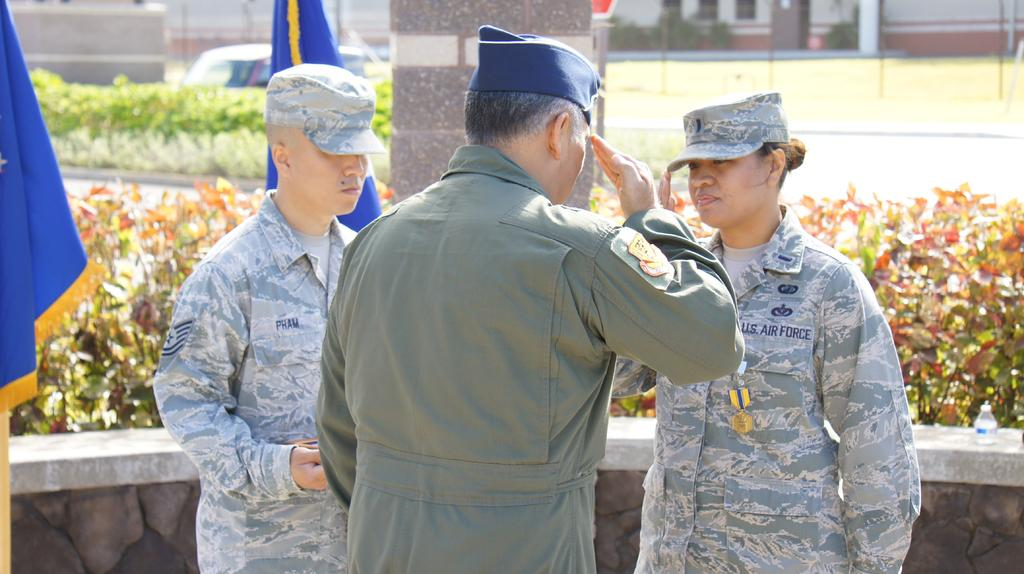Hat: (260, 60, 390, 154), (664, 86, 793, 174)
